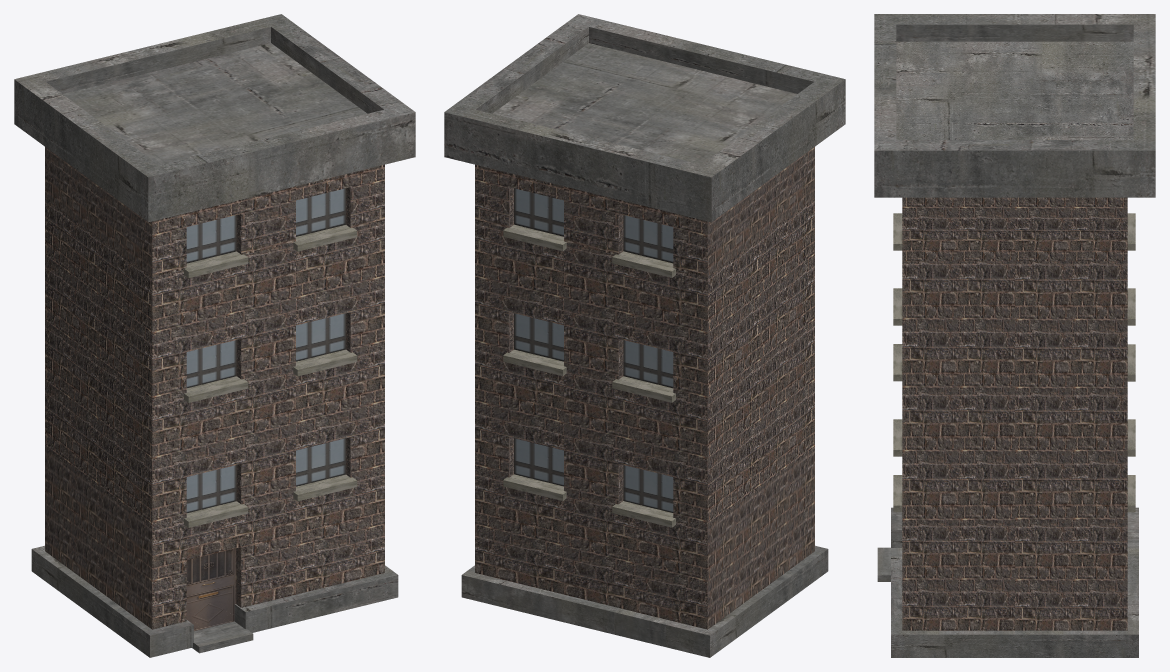
The model's file is Building04A1.fbx.
3 renders of one model, left to right at view 1: azimuth 30°, elevation 25°; view 2: azimuth 150°, elevation 25°; view 3: azimuth 270°, elevation 25°, orthographic. The views are drawn at different scales.
Visible parts, largest first — view 1: UB; view 2: UB; view 3: UB.
Boxes of the visible parts, x1=… form: UB: x1=14, y1=14, x2=415, y2=657; UB: x1=444, y1=14, x2=845, y2=657; UB: x1=874, y1=14, x2=1155, y2=657.
Bounding box in the file's own units: 5.15 × 9.01 × 4.48.
